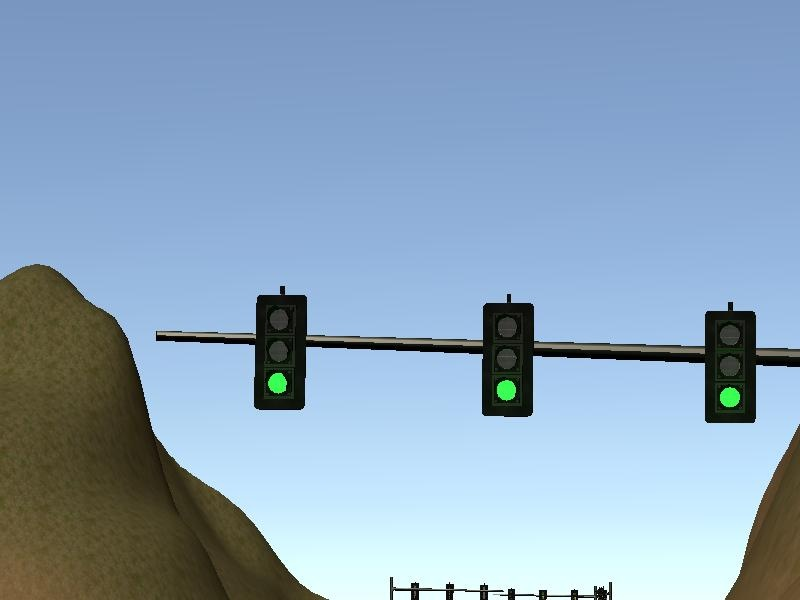green: (475, 295, 539, 424), (696, 308, 760, 428), (251, 293, 311, 418)
